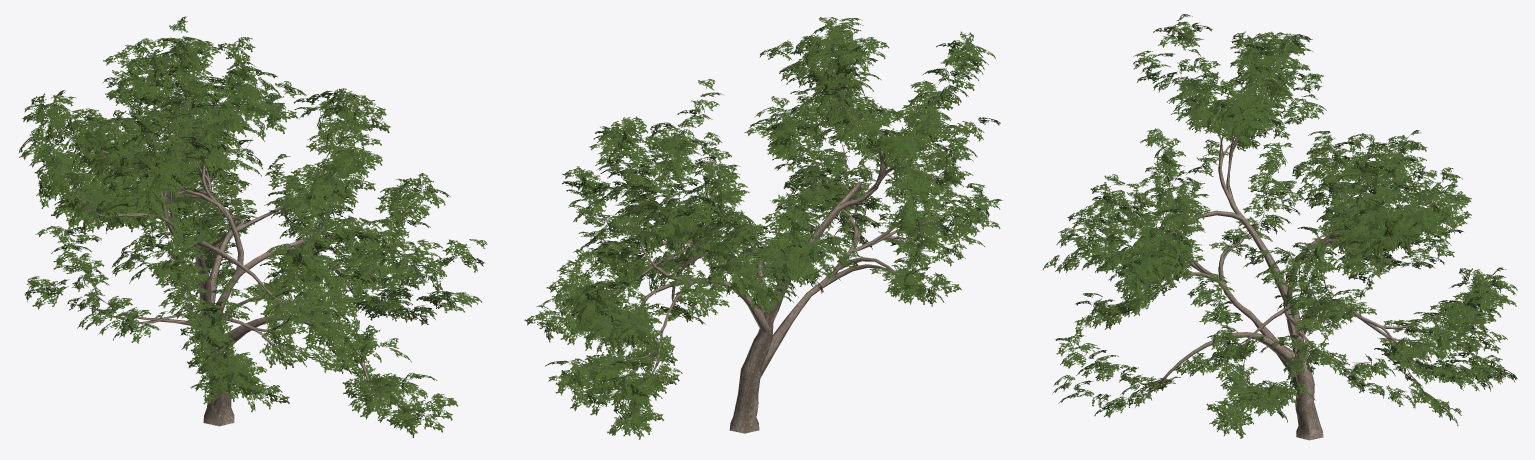
File: oak1.glb
3 renders of one model, left to right at view 1: azimuth 30°, elevation 25°; view 2: azimuth 150°, elevation 25°; view 3: azimuth 270°, elevation 25°, orthographic. The views are drawn at different scales.
Visible parts, largest first — view 1: Object_13, Object_14, Object_11; view 2: Object_13, Object_14, Object_11; view 3: Object_13, Object_14, Object_11.
Part boxes in pixels (left/top/right/bottom): Object_13: left=19, top=36, right=487, bottom=437; Object_14: left=24, top=16, right=437, bottom=412; Object_11: left=43, top=68, right=416, bottom=426; Object_13: left=524, top=17, right=1000, bottom=342; Object_14: left=541, top=79, right=1002, bottom=439; Object_11: left=581, top=49, right=965, bottom=433; Object_13: left=1052, top=14, right=1441, bottom=438; Object_14: left=1042, top=130, right=1517, bottom=425; Object_11: left=1086, top=32, right=1500, bottom=440.
Size of the model in its own units: 14.65 by 13 by 15.54.
2 materials, 2 textured.
